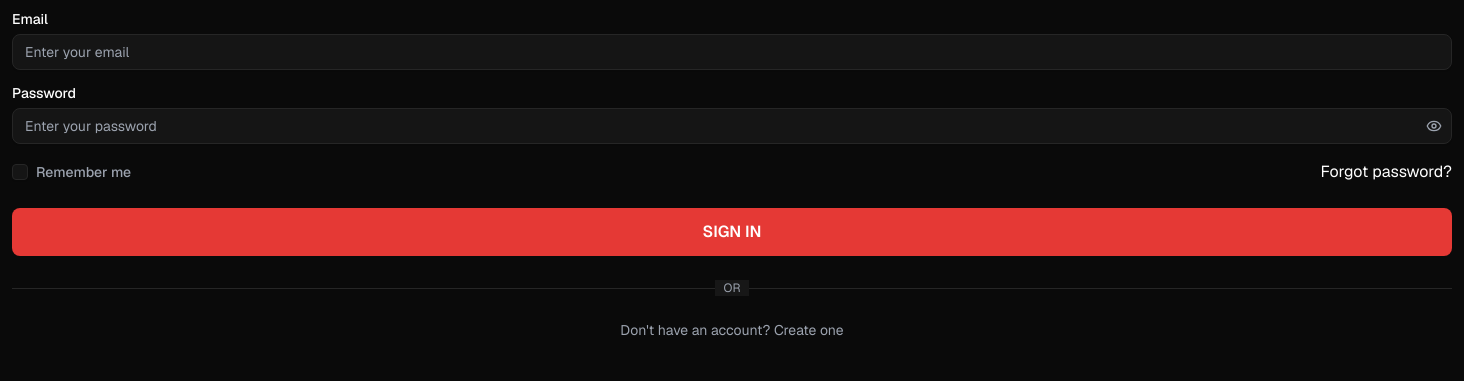
Test: LoginForm › validation › shows error when submitting empty password
This screenshot has width=1464, height=381.
Type "test@test.com" into the field labelled "Email" at (732, 52), box x1=12 y1=34 x2=1452 y2=70
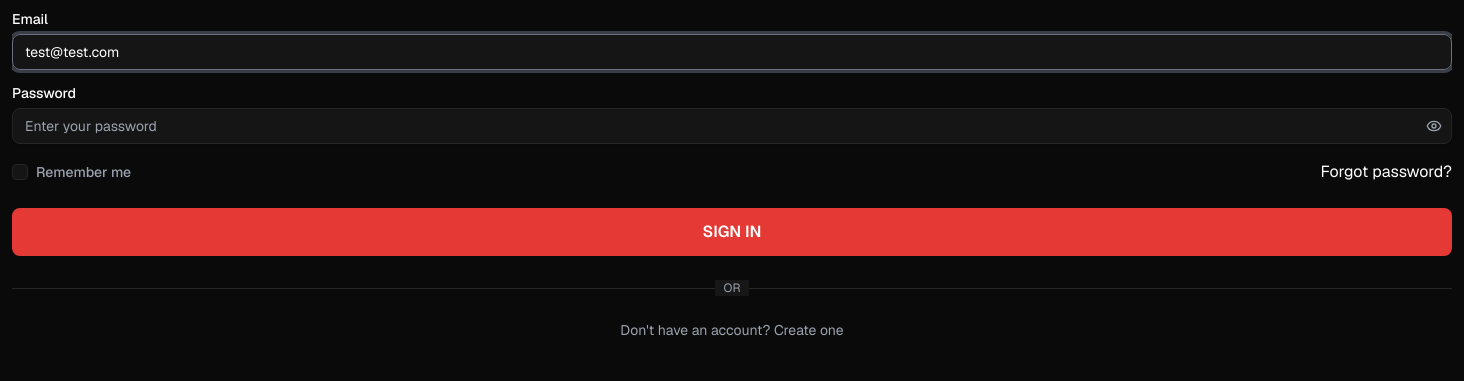
Click the button "SIGN IN" at (732, 232), box x1=12 y1=208 x2=1452 y2=256
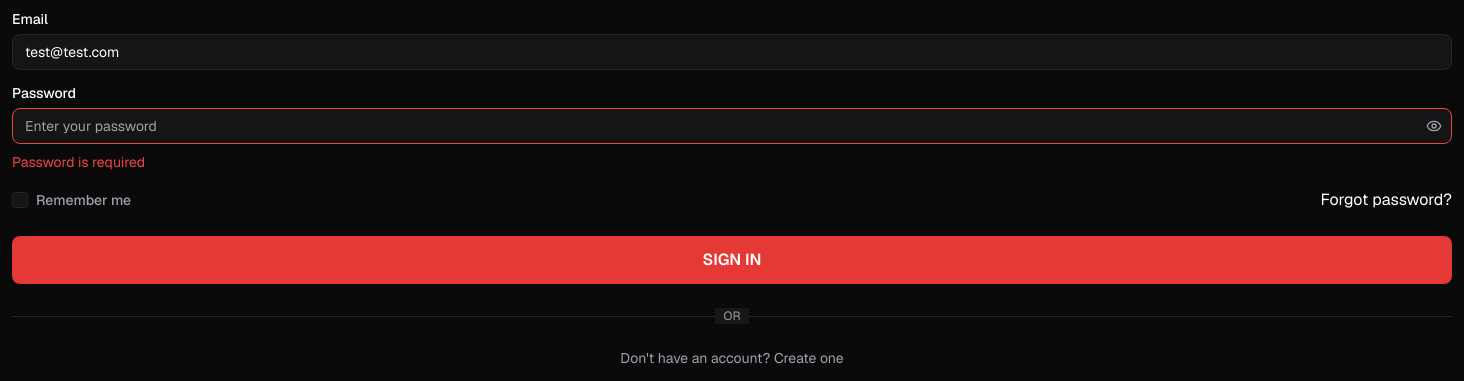
Expected: the text "Password is required" is shown, x1=12 y1=153 x2=145 y2=171
